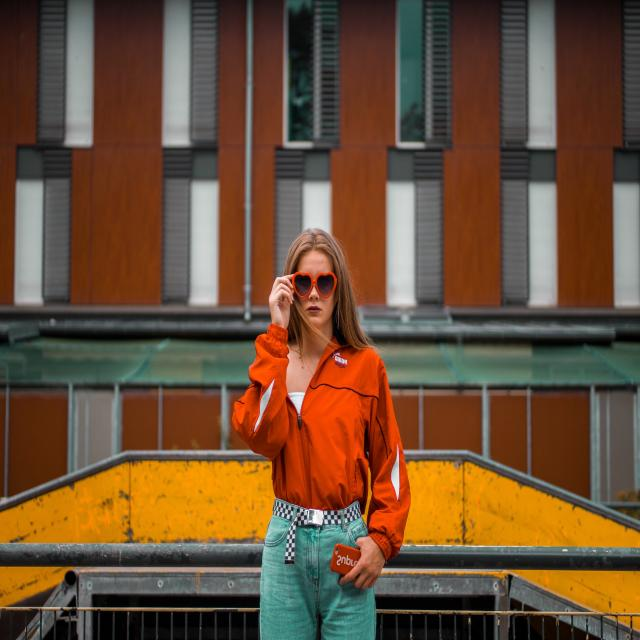adult: (237, 212, 405, 640)
